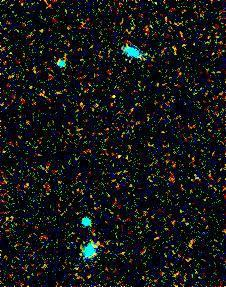star: (97, 81, 127, 111)
